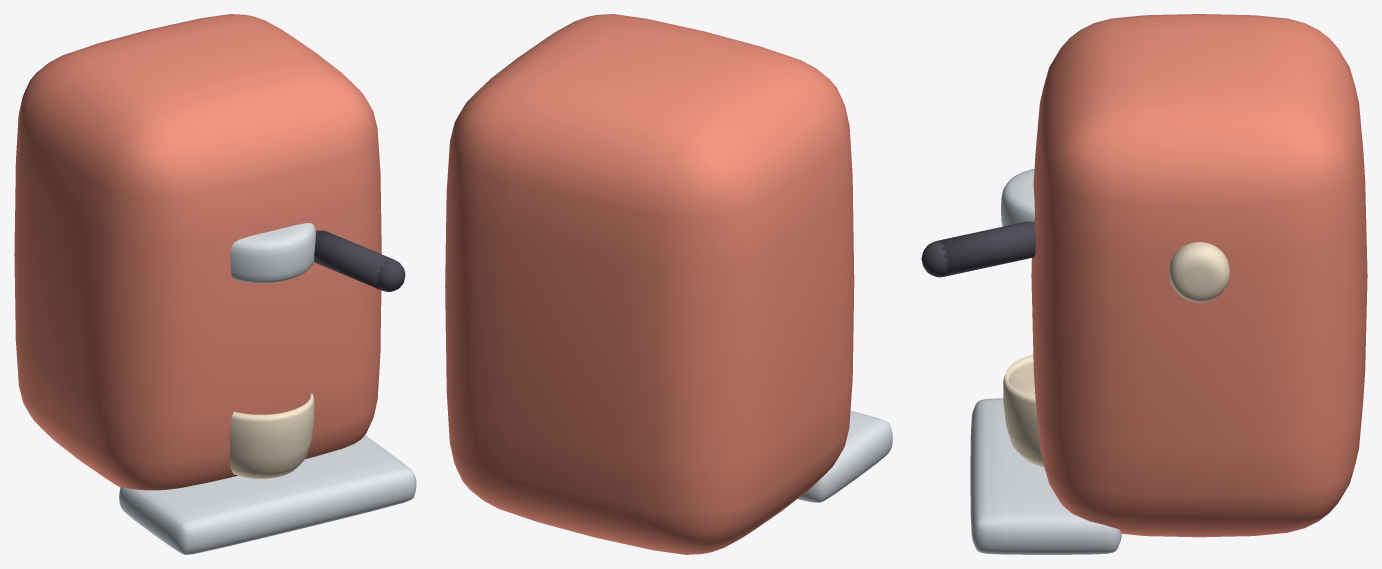
File: coffee_b.glb
The picture shows the model from 3 angles, left to right: view 1: azimuth 30°, elevation 25°; view 2: azimuth 150°, elevation 25°; view 3: azimuth 270°, elevation 25°; orthographic projection. The views are drawn at different scales.
Parts seen in each view (by area): view 1: body; view 2: body; view 3: body.
Part boxes in pixels (x1,y1,x2,y2): body: (14,14,416,554); body: (445,14,892,554); body: (921,14,1367,554).
Bounding box in the file's own units: 0.256 × 0.32 × 0.292.
